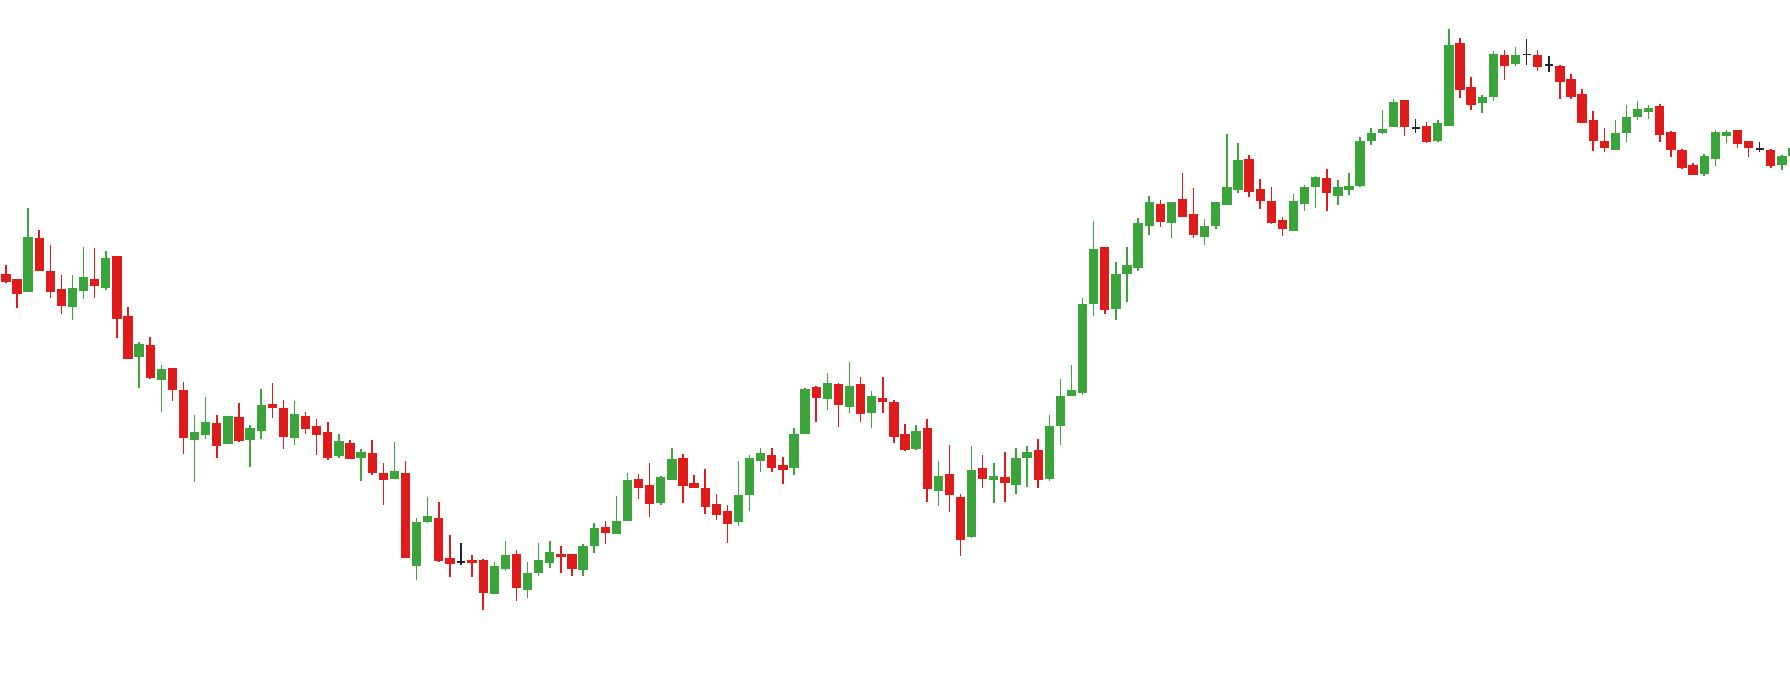buy: (643, 478, 745, 547)
